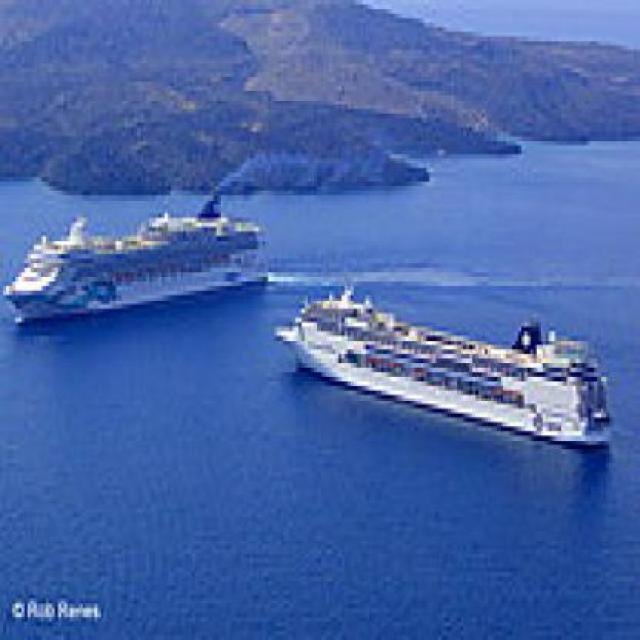cruise: (269, 278, 626, 459), (1, 196, 284, 333)
